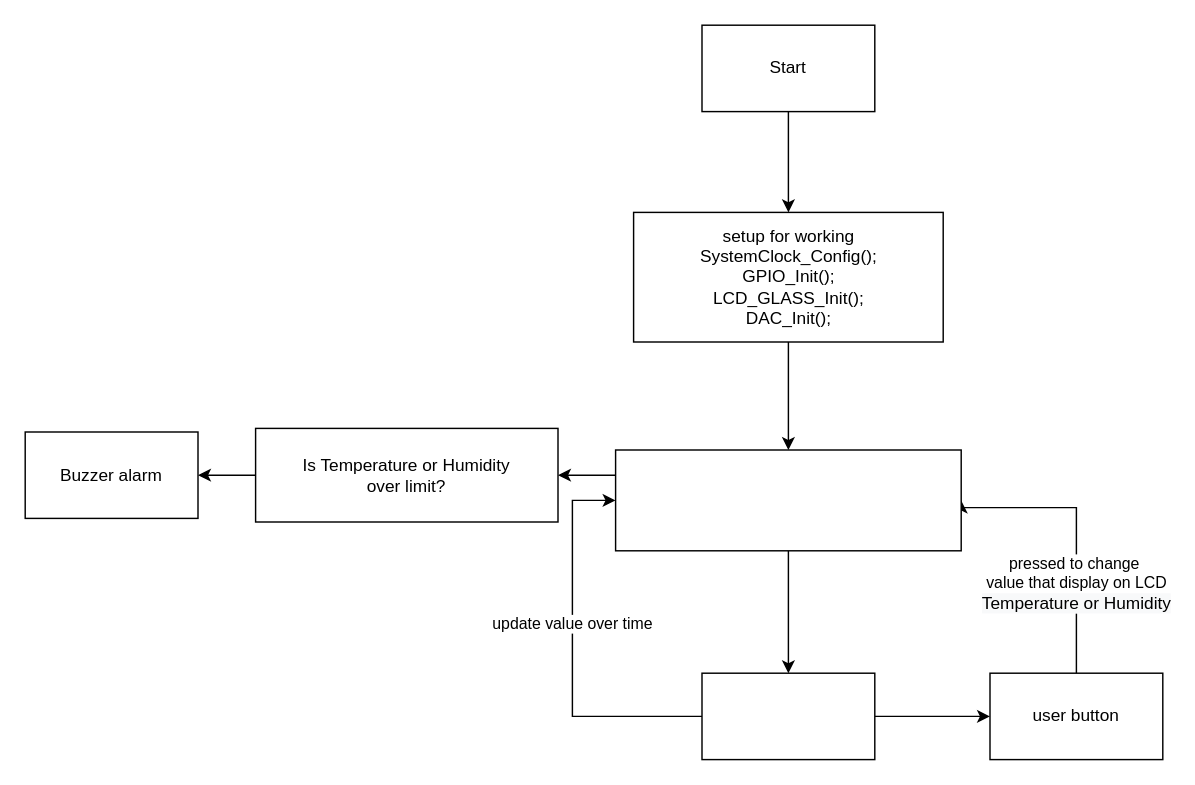
Image size: 1195x785. Some labels were removed from this diagram. Here are the shapes that lost their labels. From the top down, the centre of each, then its label:
At point (787, 500): "DHT11 get data Temperature or Humidity".
At point (788, 716): "Display on LCD".
